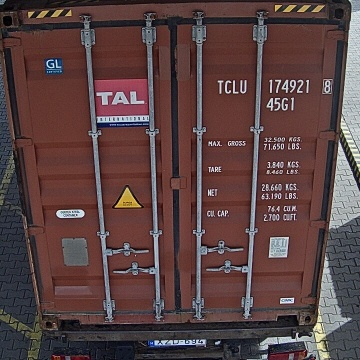serial_id: (218, 79, 332, 93)
